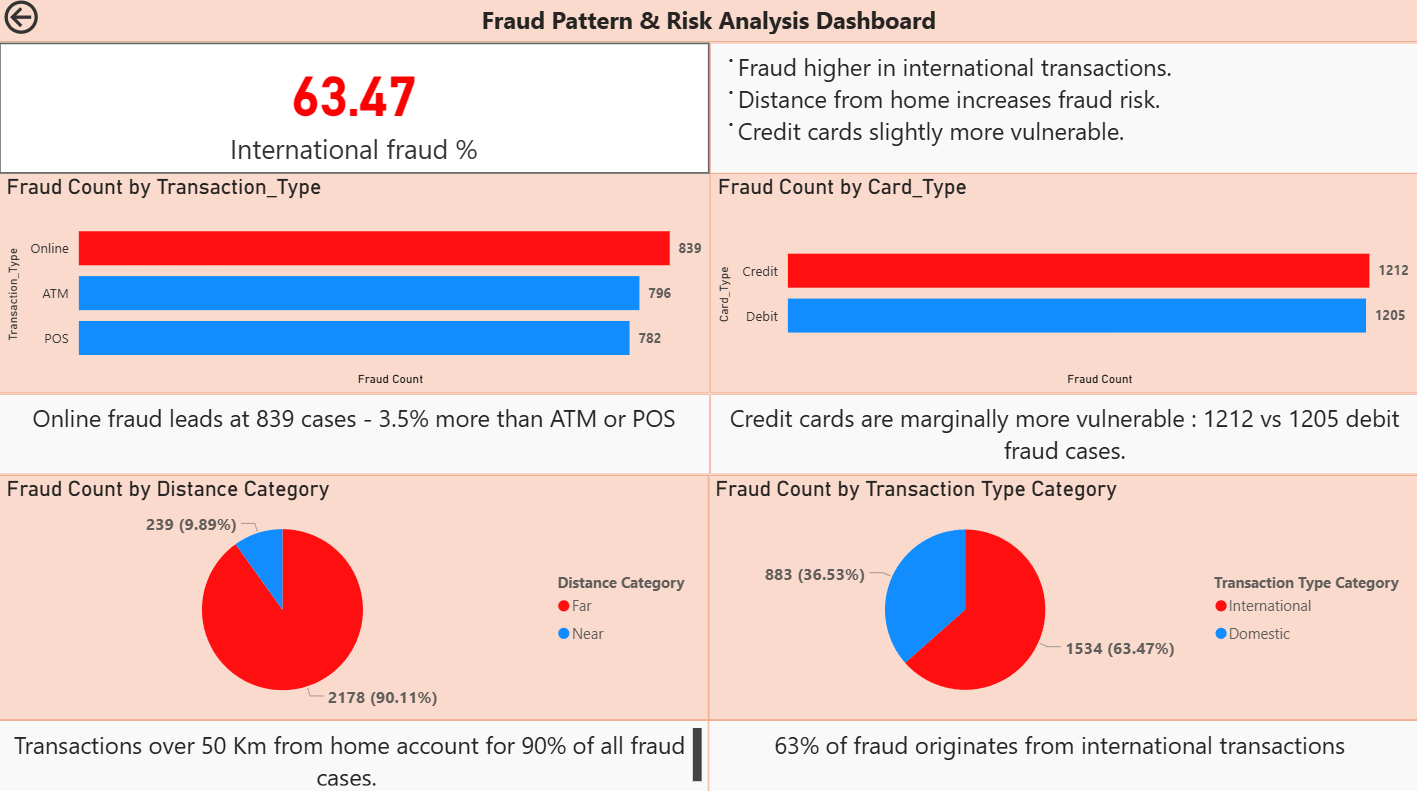

What the dashboard file says about the page in this screenshot:
{"tool":"powerbi","page":{"name":"Fraud Analysis","canvas":[1280,720],"ordinal":3},"visuals":[{"type":"barChart","fields":{"Category":["Clean_Fraud_datection_fCSV.Transaction_Type"],"Y":["Clean_Fraud_datection_fCSV.Fraud Count"]},"box":[0,160.5,640.8,199],"z":0},{"type":"barChart","fields":{"Category":["Clean_Fraud_datection_fCSV.Card_Type"],"Y":["Clean_Fraud_datection_fCSV.Fraud Count"]},"box":[640.8,160.5,639.5,199],"z":1000},{"type":"pieChart","fields":{"Category":["Clean_Fraud_datection_fCSV.Distance Category"],"Y":["Clean_Fraud_datection_fCSV.Fraud Count"]},"box":[0,432.7,640.8,220.9],"z":2000},{"type":"pieChart","fields":{"Category":["Clean_Fraud_datection_fCSV.Transaction Type Category"],"Y":["Clean_Fraud_datection_fCSV.Fraud Count"]},"box":[639.5,432.7,640.8,220.9],"z":3000},{"type":"textbox","box":[0,0,1280.3,42.8],"z":4000},{"type":"textbox","box":[640.8,42.4,639.5,118.1],"z":5000},{"type":"textbox","box":[0,359.6,640.8,73.2],"z":6000},{"type":"card","fields":{"Values":["Clean_Fraud_datection_fCSV.International fraud"]},"box":[0,42.4,640.8,118.1],"z":7000},{"type":"textbox","box":[640.8,359.6,639.5,73.2],"z":8000},{"type":"textbox","box":[0,653.6,640.8,66.8],"z":9000},{"type":"textbox","box":[639.5,653.6,640.8,66.8],"z":10000},{"type":"actionButton","box":[0,0,100,40],"z":11000}]}

Visuals, with their boxes in screenshot pixels (x1, y1, x2, y2), scaled from the page's 1280x720 canvas onto the 1417x791 screenshot:
barChart - Clean_Fraud_datection_fCSV.Transaction_Type x Clean_Fraud_datection_fCSV.Fraud Count: left=0, top=176, right=709, bottom=395
barChart - Clean_Fraud_datection_fCSV.Card_Type x Clean_Fraud_datection_fCSV.Fraud Count: left=709, top=176, right=1416, bottom=395
pieChart - Clean_Fraud_datection_fCSV.Distance Category x Clean_Fraud_datection_fCSV.Fraud Count: left=0, top=475, right=709, bottom=718
pieChart - Clean_Fraud_datection_fCSV.Transaction Type Category x Clean_Fraud_datection_fCSV.Fraud Count: left=708, top=475, right=1416, bottom=718
textbox: left=0, top=0, right=1416, bottom=47
textbox: left=709, top=47, right=1416, bottom=176
textbox: left=0, top=395, right=709, bottom=475
card - Clean_Fraud_datection_fCSV.International fraud: left=0, top=47, right=709, bottom=176
textbox: left=709, top=395, right=1416, bottom=475
textbox: left=0, top=718, right=709, bottom=790
textbox: left=708, top=718, right=1416, bottom=790
actionButton: left=0, top=0, right=111, bottom=44
